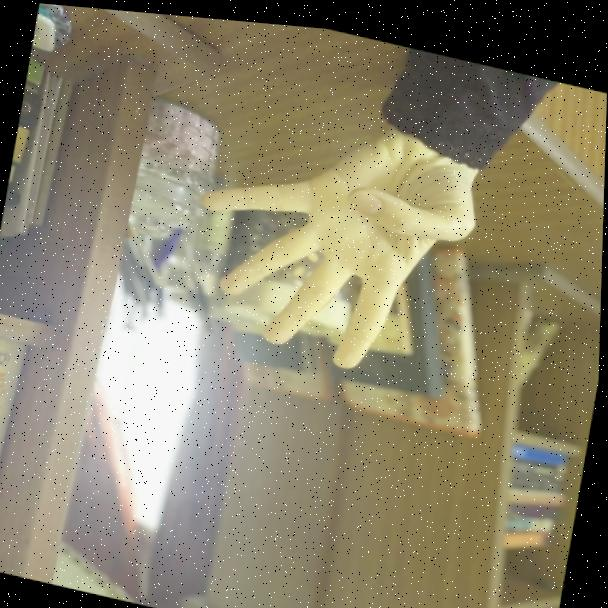four: (156, 80, 523, 414)
